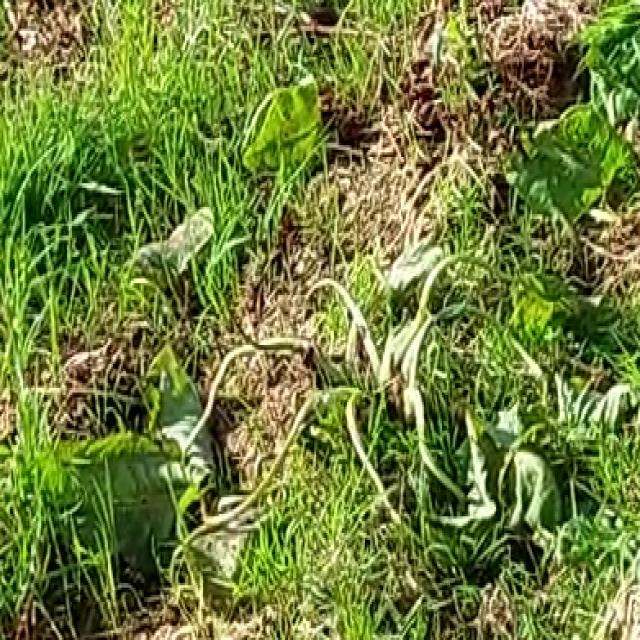organic waste: (64, 83, 640, 564)
